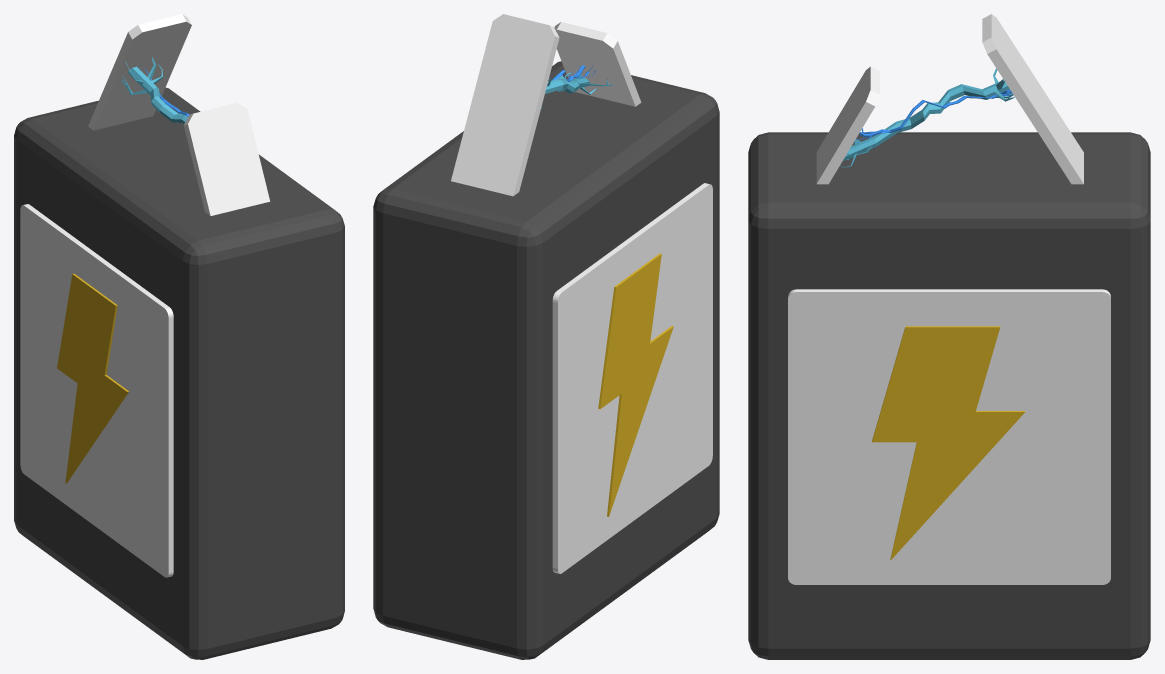
File: energy_element.fbx
3 views of the same model, side by side, from view 1: azimuth 30°, elevation 25°; view 2: azimuth 150°, elevation 25°; view 3: azimuth 270°, elevation 25° (orthographic). The views are drawn at different scales.
Visible parts, largest first — view 1: energy_elemenet; view 2: energy_elemenet; view 3: energy_elemenet.
Part boxes in pixels (x1,y1,x2,y2): energy_elemenet: (14, 14, 344, 659); energy_elemenet: (373, 14, 719, 659); energy_elemenet: (748, 14, 1150, 659).
Size of the model in its own units: 21.77 by 65.64 by 40.
